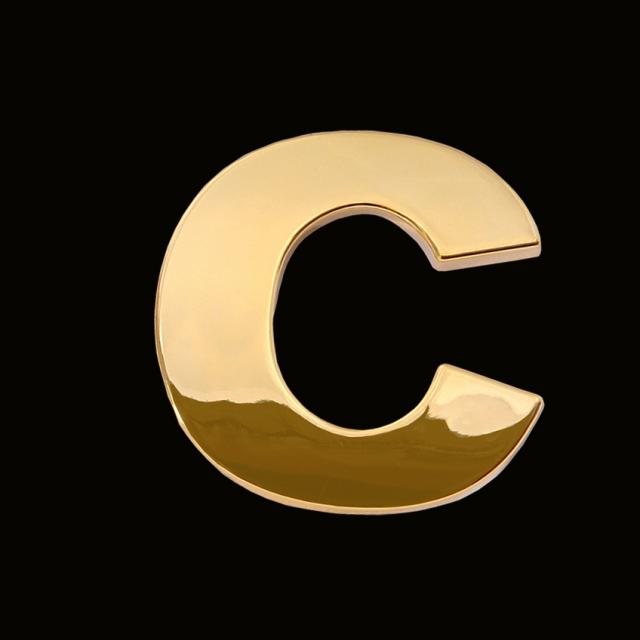C: (93, 56, 570, 542)
